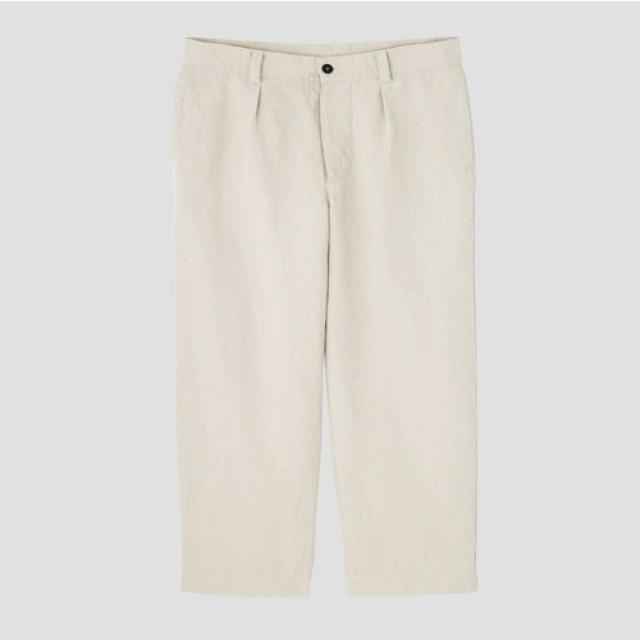long-pants: (169, 36, 477, 603)
